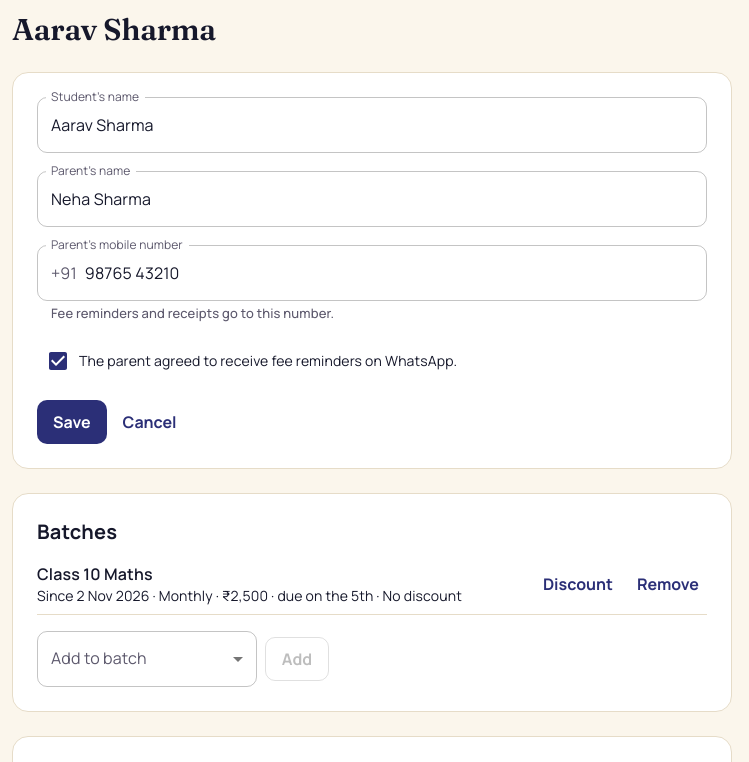
Test case: StudentDetail › explains a batch change that fails
This screenshot has width=749, height=762.
Check: the heading "Aarav Sharma" is shown, box [12,12,216,48]
Click the dropdown named "Add to batch" at {"x": 147, "y": 659}, box [37,631,257,687]
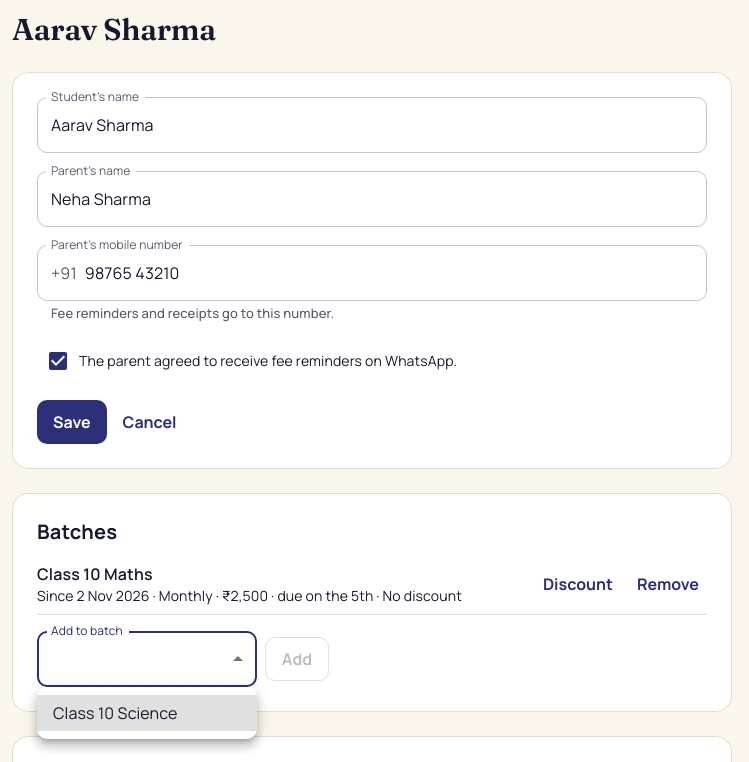
Click the option "Class 10 Science" at {"x": 147, "y": 713}, box [37,695,257,731]
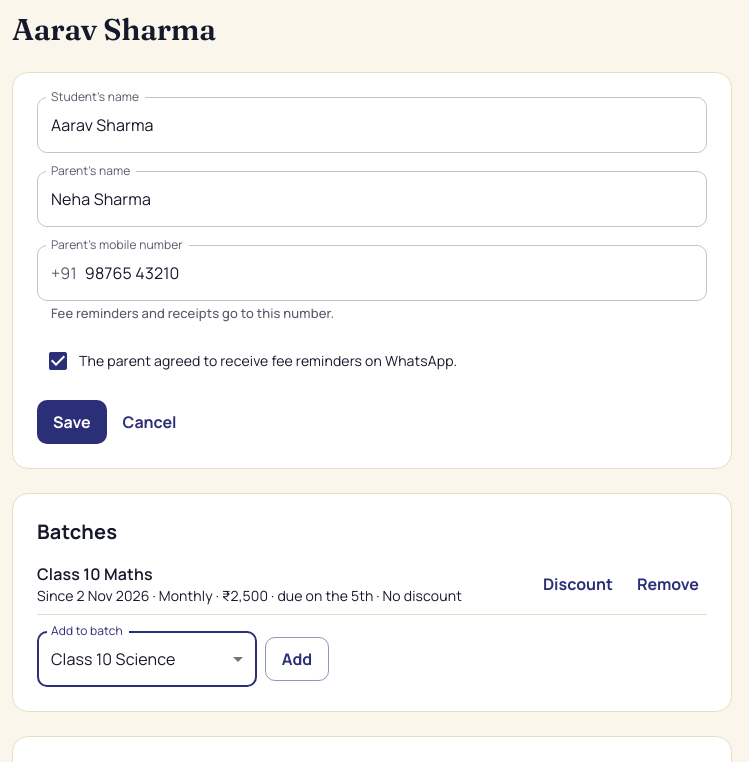
Click the button "Add" at {"x": 297, "y": 659}, box [265,637,329,681]
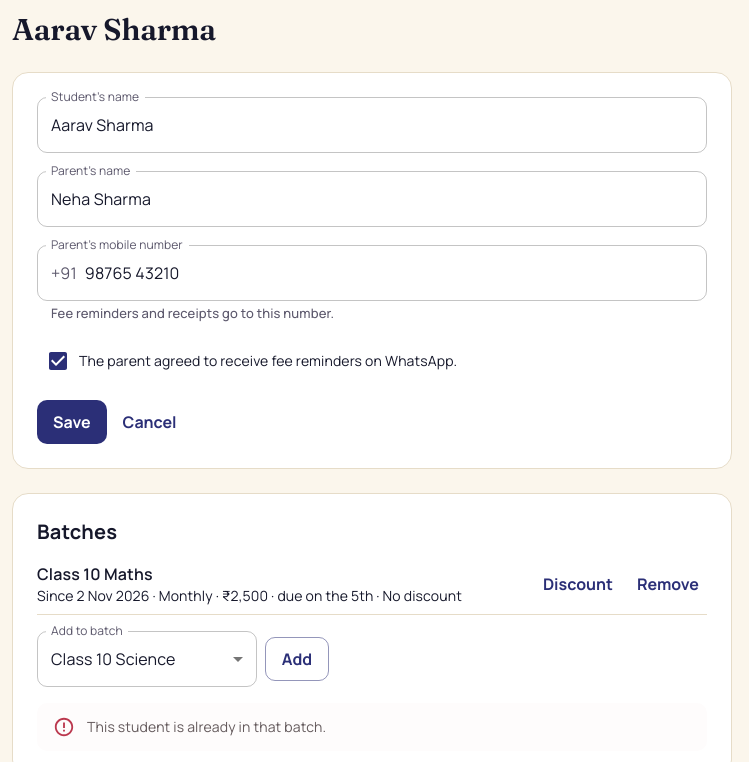
Check: the message reads "This student is already in that batch.", box [87,717,326,736]
